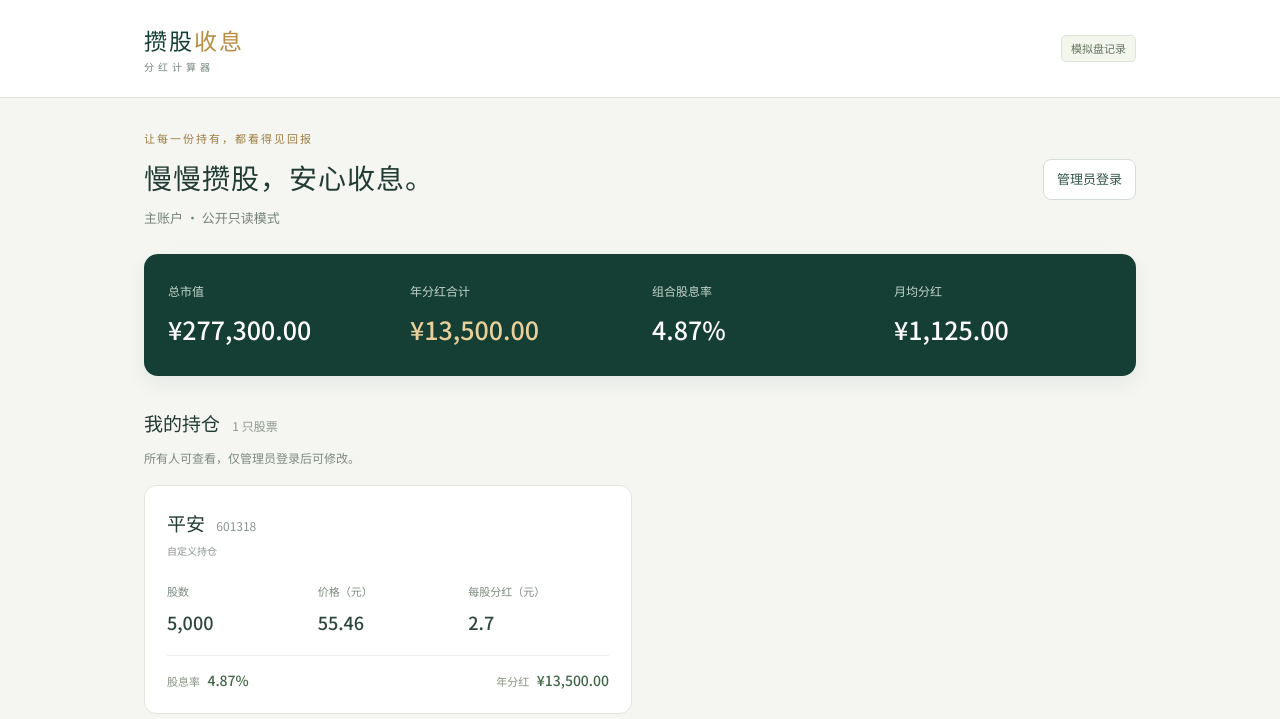
Test case: 发送登录链接保留Pages子路径，验证码为空时不要求验证码或发起验证
Later steps or results of the test are not shown.
Click the button "管理员登录" at (1090, 179), box [1043,159,1136,200]
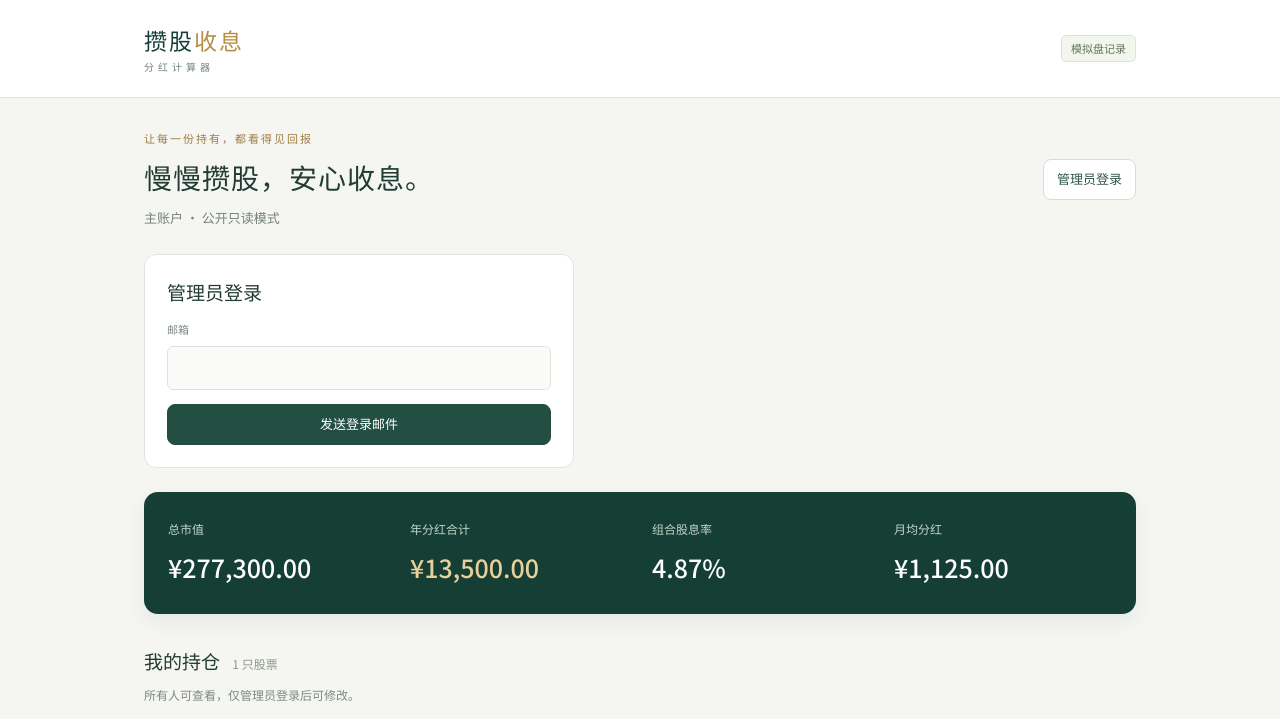
Type "owner@example.com" into the field labelled "邮箱" at (359, 368), box [167,346,551,390]
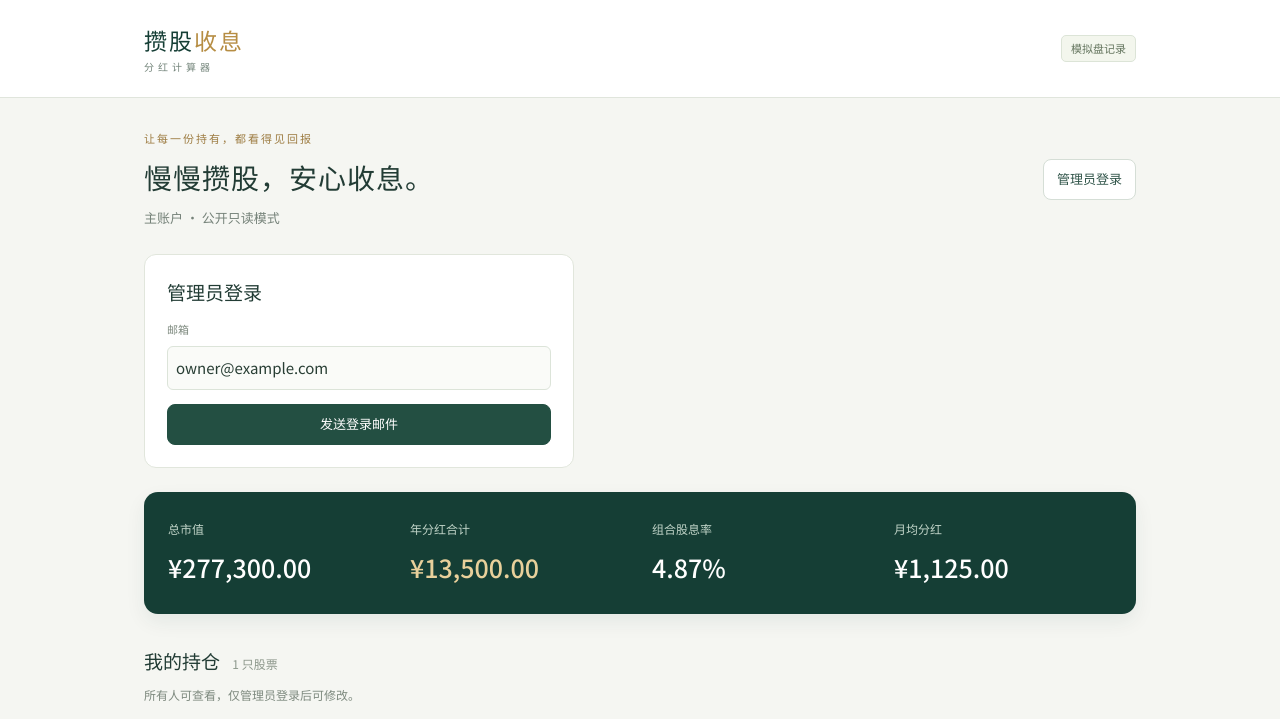
Click the button "发送登录邮件" at (359, 424), box [167,404,551,445]
(page scrolled)
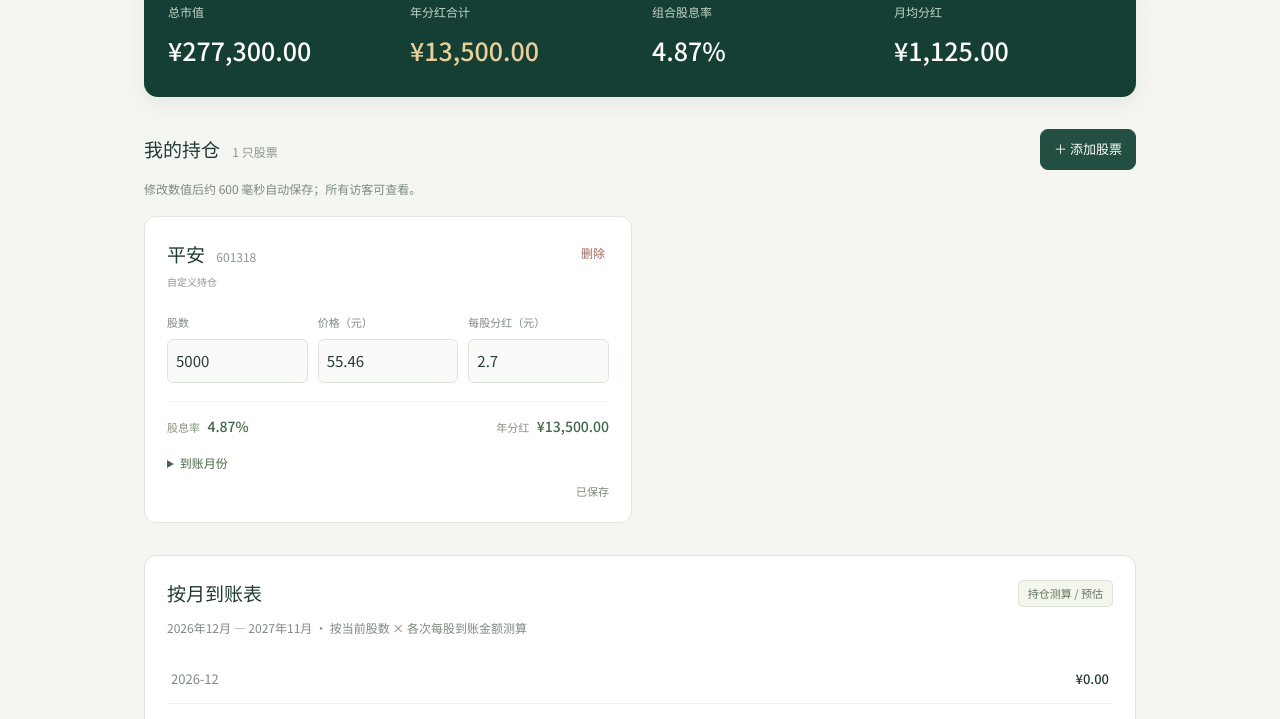
Check: the number field named "平安股数" is shown, box [167,339,308,383]
